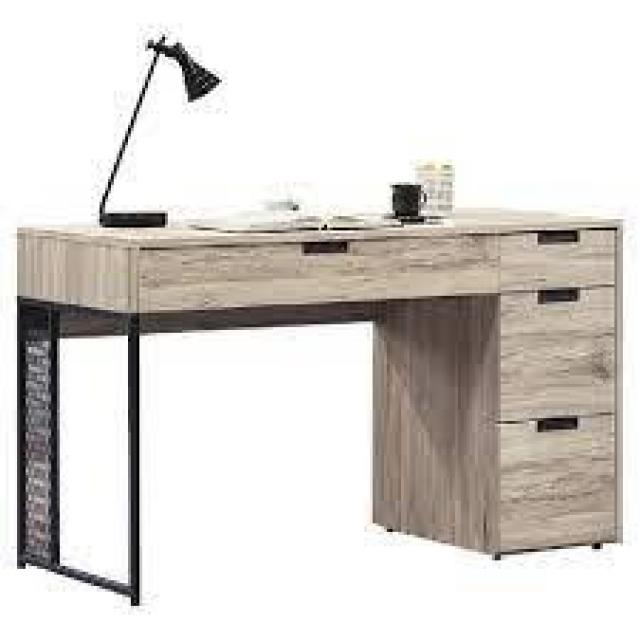table: (4, 159, 636, 583)
